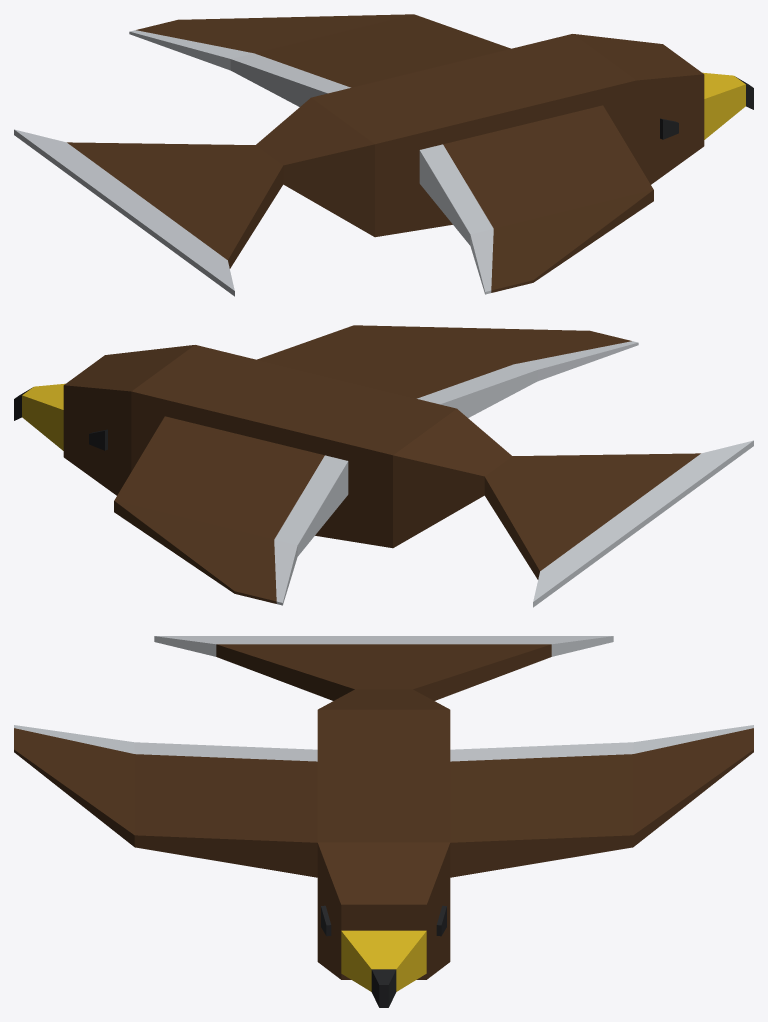
File: Hawk.glb
3 renders of one model, top to bottom at view 1: azimuth 30°, elevation 25°; view 2: azimuth 150°, elevation 25°; view 3: azimuth 270°, elevation 25°, orthographic. The views are drawn at different scales.
Parts seen in each view (by area): view 1: Hawk; view 2: Hawk; view 3: Hawk.
Part boxes in pixels (left/top/right/bottom): Hawk: left=14, top=14, right=753, bottom=296; Hawk: left=14, top=325, right=753, bottom=607; Hawk: left=14, top=636, right=753, bottom=1007.
Bounding box in the file's own units: 6.84 × 1.2 × 6.72.
Materials: 1 (1 with a texture image).
